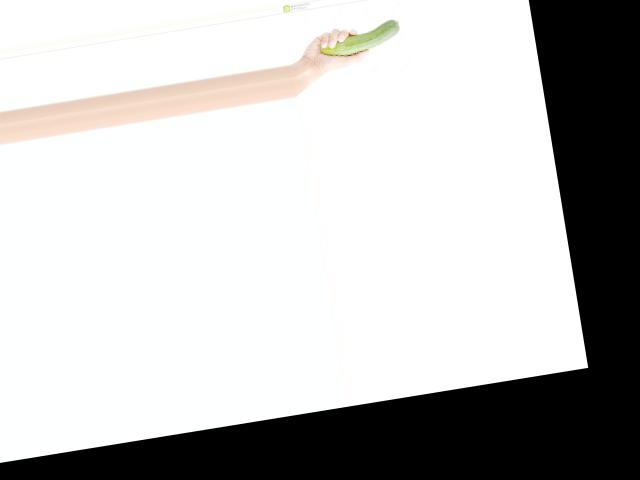cucumber: (317, 18, 402, 58)
